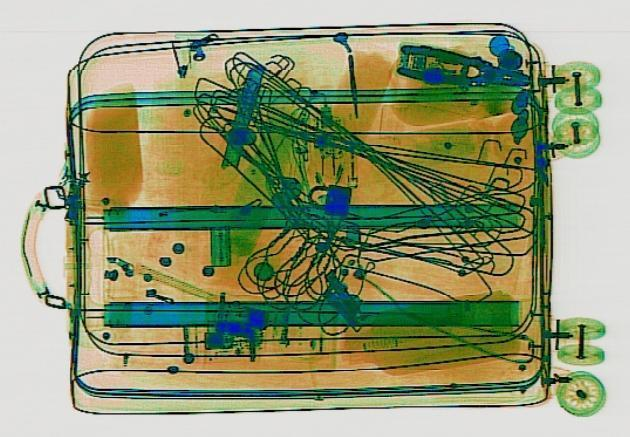Pliers: (386, 40, 539, 96)
